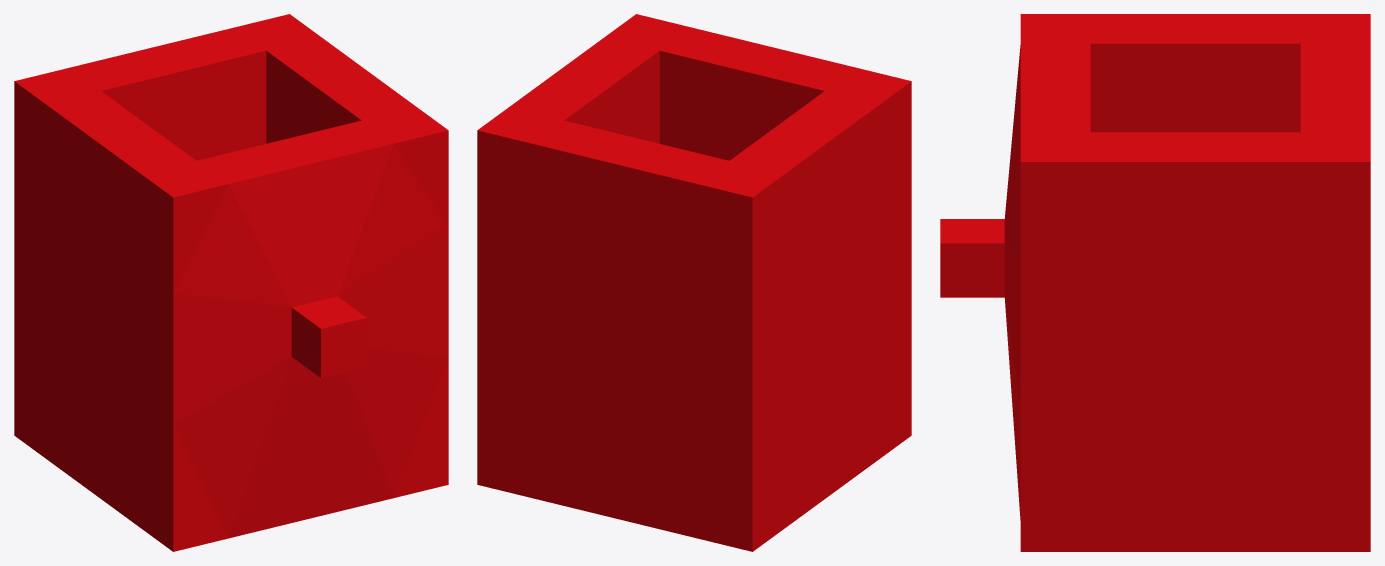
The model's file is cheerio.dae.
3 views of the same model, side by side, from view 1: azimuth 30°, elevation 25°; view 2: azimuth 150°, elevation 25°; view 3: azimuth 270°, elevation 25° (orthographic). The views are drawn at different scales.
Visible parts, largest first — view 1: Cube; view 2: Cube; view 3: Cube.
Part boxes in pixels (x1,y1,x2,y2): Cube: (14, 14, 448, 551); Cube: (477, 14, 911, 551); Cube: (940, 14, 1370, 551).
Size of the model in its own units: 0.2 by 0.2458 by 0.2459.
